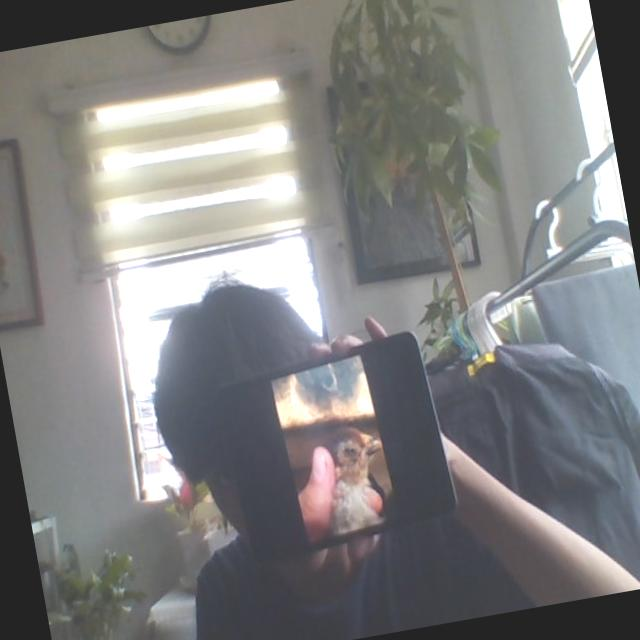Sick: (320, 422, 401, 538)
